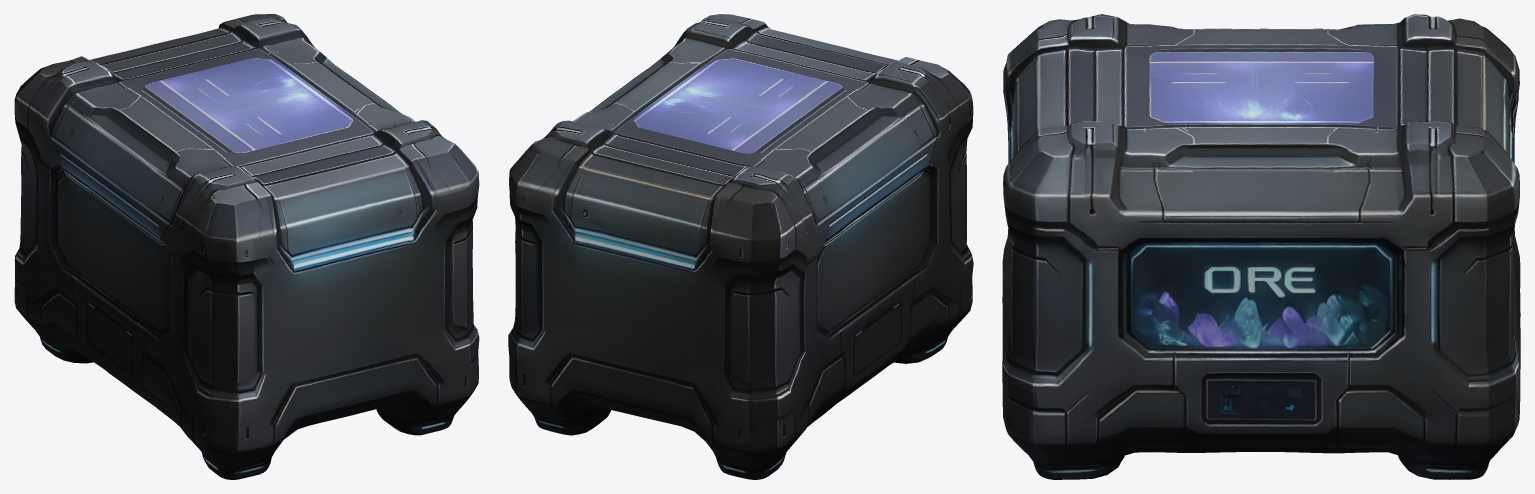
File: ore_container.glb
3 renders of one model, left to right at view 1: azimuth 30°, elevation 25°; view 2: azimuth 150°, elevation 25°; view 3: azimuth 270°, elevation 25°, orthographic. The views are drawn at different scales.
Parts seen in each view (by area): view 1: tripo_node_cdb67130-a5e3-41ae-a0a3-517aa9798894; view 2: tripo_node_cdb67130-a5e3-41ae-a0a3-517aa9798894; view 3: tripo_node_cdb67130-a5e3-41ae-a0a3-517aa9798894.
Part boxes in pixels (box(x1,y1,x2,y2)): tripo_node_cdb67130-a5e3-41ae-a0a3-517aa9798894: box(14, 14, 479, 479); tripo_node_cdb67130-a5e3-41ae-a0a3-517aa9798894: box(508, 14, 973, 479); tripo_node_cdb67130-a5e3-41ae-a0a3-517aa9798894: box(1002, 14, 1520, 479).
Size of the model in its own units: 0.7218 by 0.7188 by 0.9992.
Materials: 1 (1 with a texture image).
